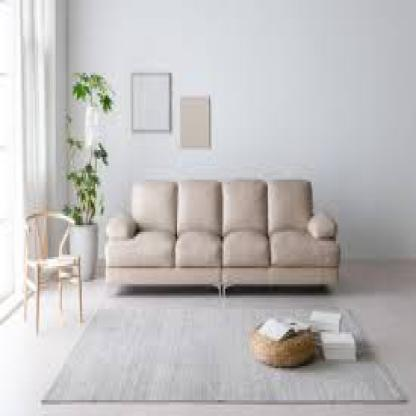sofa: (108, 175, 344, 293)
